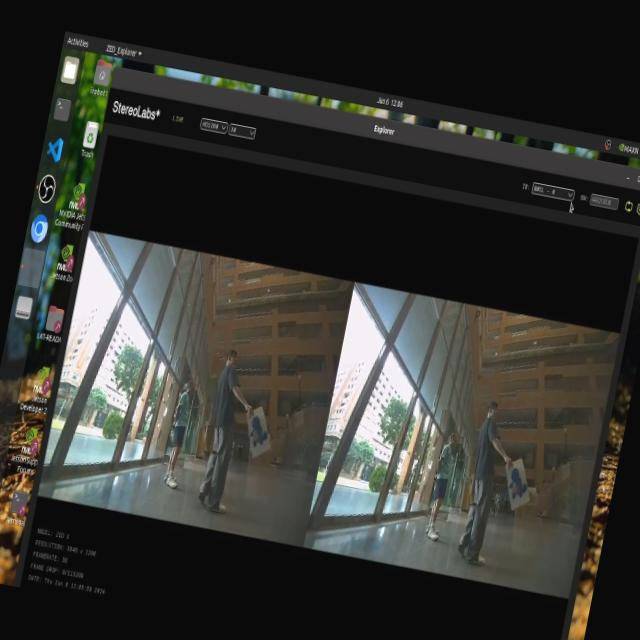blue: (246, 402, 282, 448), (499, 462, 532, 507)
